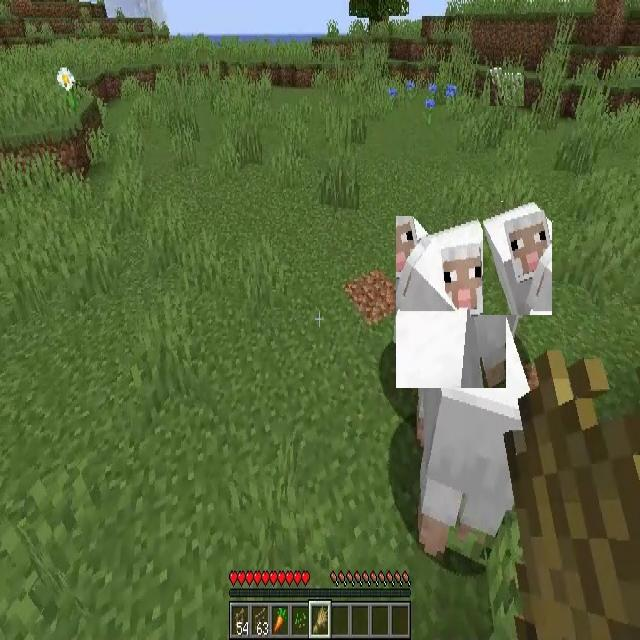flower: (56, 66, 74, 96), (424, 95, 434, 125), (446, 86, 457, 108), (406, 80, 418, 97), (389, 89, 398, 109)
sheep: (421, 312, 526, 556), (396, 216, 506, 388), (483, 202, 552, 315), (490, 66, 524, 106)
